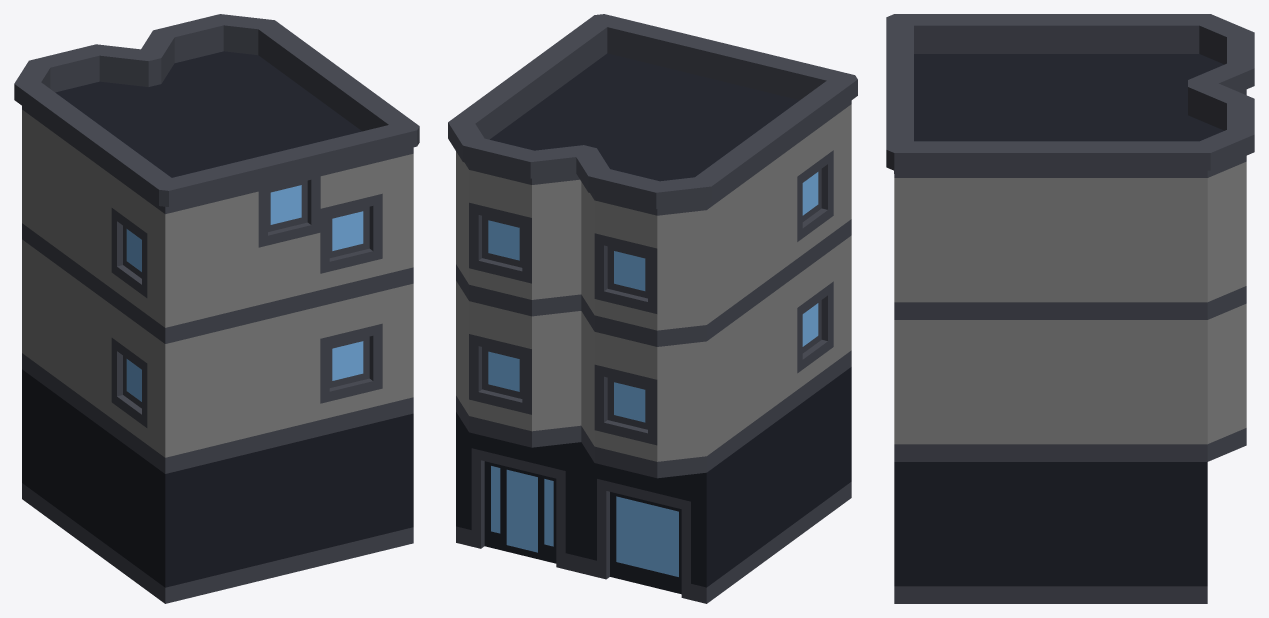
The model's file is variant_18.obj.
3 renders of one model, left to right at view 1: azimuth 30°, elevation 25°; view 2: azimuth 150°, elevation 25°; view 3: azimuth 270°, elevation 25°, orthographic. The views are drawn at different scales.
Visible parts, largest first — view 1: Building_copy, Window_copy; view 2: Building_copy; view 3: Building_copy.
Part boxes in pixels (box(x1,y1,x2,y2)): Building_copy: box(14, 14, 419, 603); Window_copy: box(258, 170, 320, 247); Building_copy: box(448, 14, 857, 603); Building_copy: box(886, 14, 1254, 603).
Bounding box in the file's own units: 0.84 × 1.28 × 0.94.
